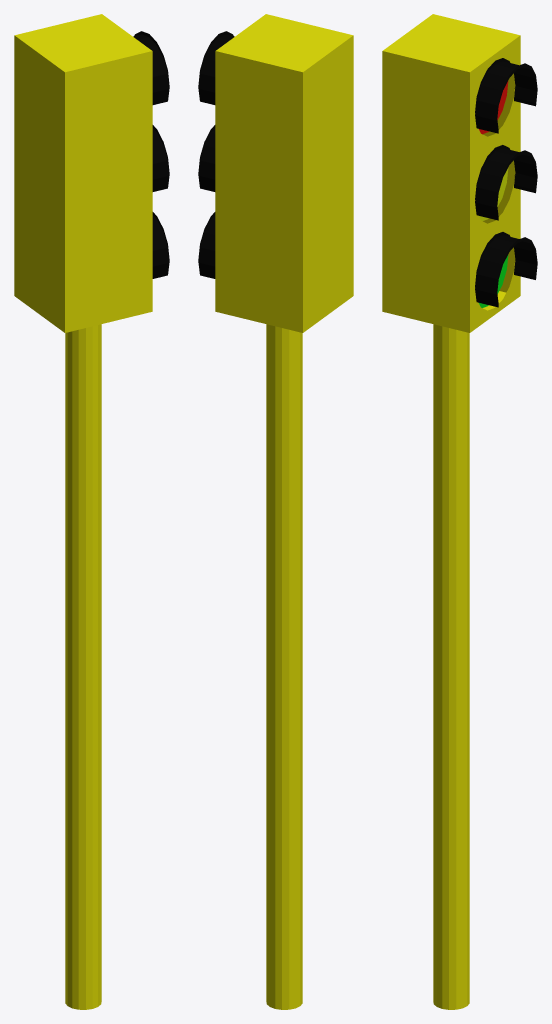
File: traffic_light.fbx
3 renders of one model, left to right at view 1: azimuth 30°, elevation 25°; view 2: azimuth 150°, elevation 25°; view 3: azimuth 330°, elevation 25°, orthographic.
Visible parts, largest first — view 1: TrafficLight; view 2: TrafficLight; view 3: TrafficLight.
Part boxes in pixels (bbox=[...]): TrafficLight: bbox=[14, 14, 169, 1009]; TrafficLight: bbox=[198, 14, 353, 1009]; TrafficLight: bbox=[382, 14, 537, 1009].
Bounding box in the file's own units: 19.66 × 164 × 15.69.
